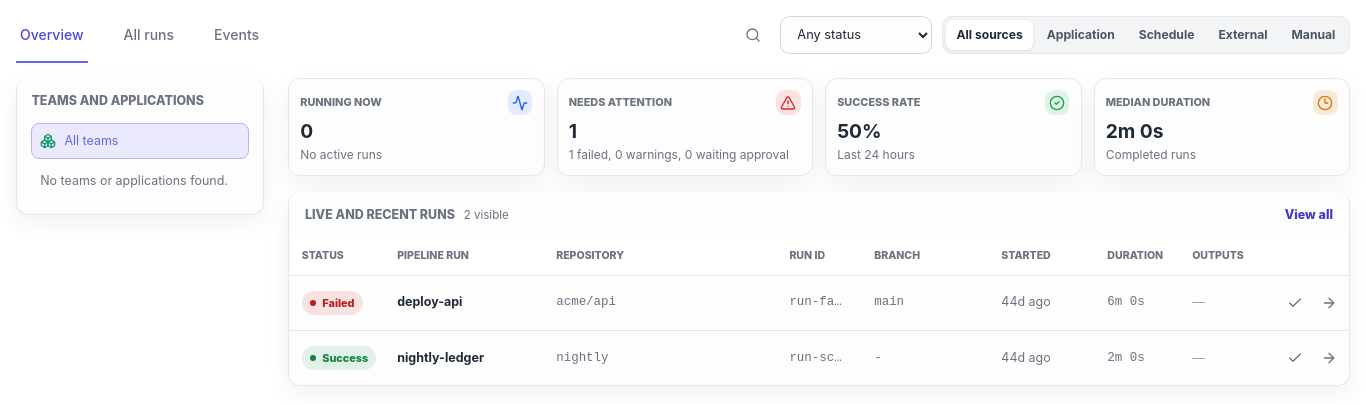
Test: filters application-sourced runs on the overview tab
Expected: the text "deploy-api" is shown, left=397, top=293, right=462, bottom=312
Expected: the text "nightly-ledger" is shown, left=397, top=349, right=484, bottom=368
Click the button "Application" at (1081, 35), box left=1036, top=20, right=1125, bottom=50
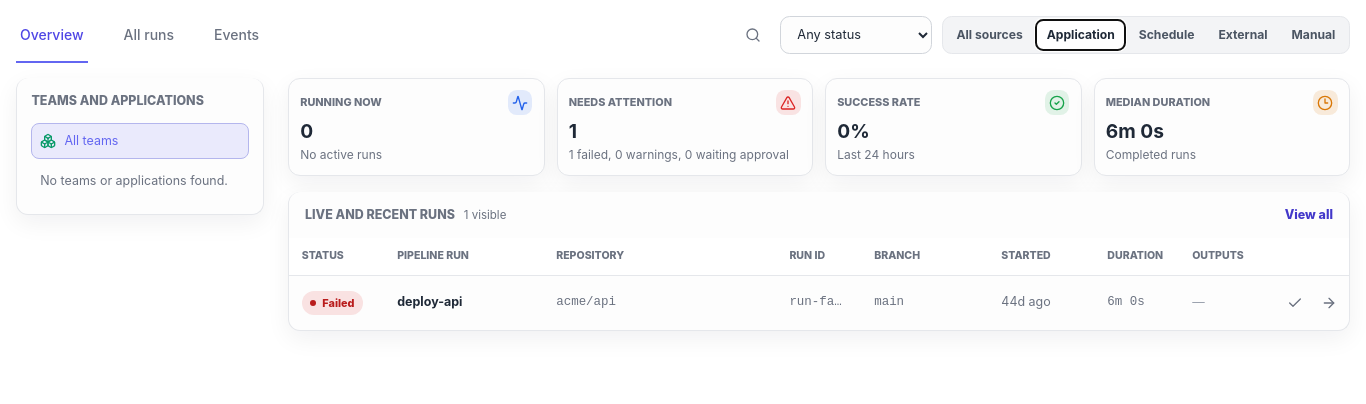
Expected: the text "deploy-api" is shown, left=397, top=293, right=462, bottom=312
Expected: the button "nightly-ledger" is gone
